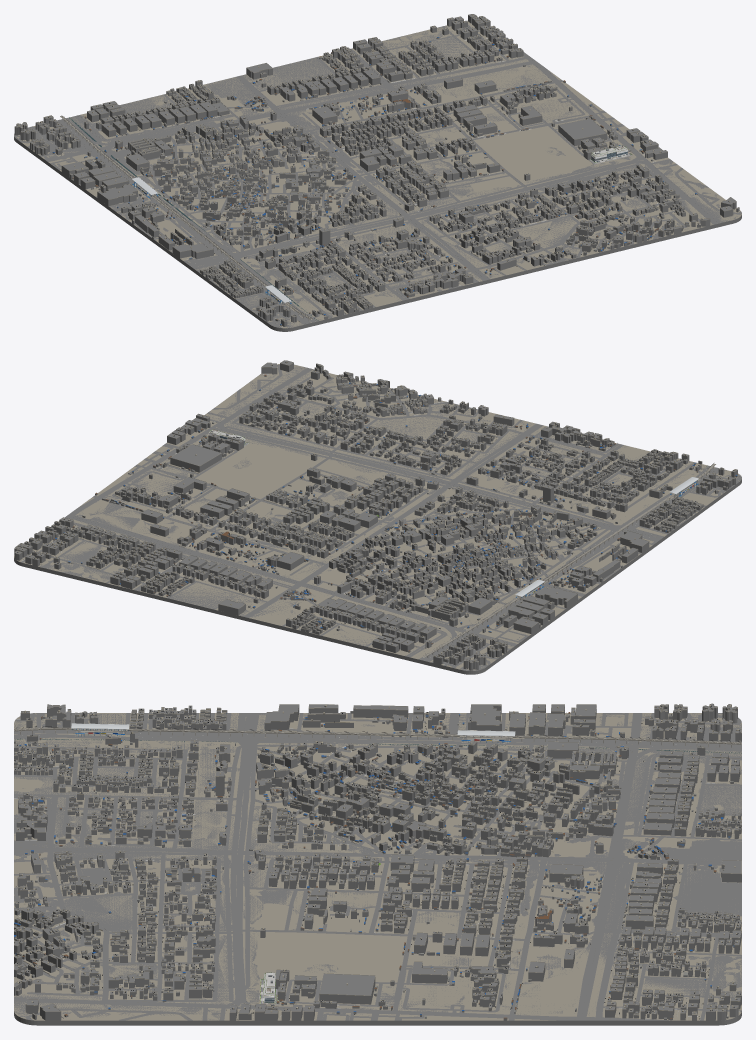
The model's file is magnus-towers.glb.
The picture shows the model from 3 angles, top to bottom: view 1: azimuth 30°, elevation 25°; view 2: azimuth 150°, elevation 25°; view 3: azimuth 270°, elevation 25°; orthographic projection. The views are drawn at different scales.
Parts seen in each view (by area): view 1: context, ground, rooftops, plinth, compound_walls, metro, stations; view 2: context, ground, rooftops, plinth, compound_walls, metro, stations; view 3: ground, context, rooftops, compound_walls, plinth, metro, stations, opt_magnus-towers_magnus-towers_hero.
Boxes of the visible parts, bbox=[...] form: context: bbox=[14, 14, 739, 326]; ground: bbox=[14, 20, 741, 328]; rooftops: bbox=[18, 14, 730, 320]; plinth: bbox=[14, 136, 741, 331]; compound_walls: bbox=[22, 23, 698, 327]; metro: bbox=[60, 115, 312, 320]; stations: bbox=[132, 177, 292, 306]; context: bbox=[14, 360, 737, 670]; ground: bbox=[14, 364, 741, 670]; rooftops: bbox=[16, 362, 735, 661]; plinth: bbox=[14, 479, 741, 674]; compound_walls: bbox=[21, 374, 740, 665]; metro: bbox=[423, 463, 715, 657]; stations: bbox=[515, 477, 698, 599]; ground: bbox=[14, 713, 741, 1020]; context: bbox=[14, 703, 741, 1020]; rooftops: bbox=[14, 705, 740, 1013]; compound_walls: bbox=[14, 712, 741, 1020]; plinth: bbox=[14, 1011, 741, 1025]; metro: bbox=[14, 726, 741, 747]; stations: bbox=[71, 723, 515, 743]; opt_magnus-towers_magnus-towers_hero: bbox=[259, 972, 278, 1004].
Size of the model in its own units: 1870 by 72.57 by 1871.
